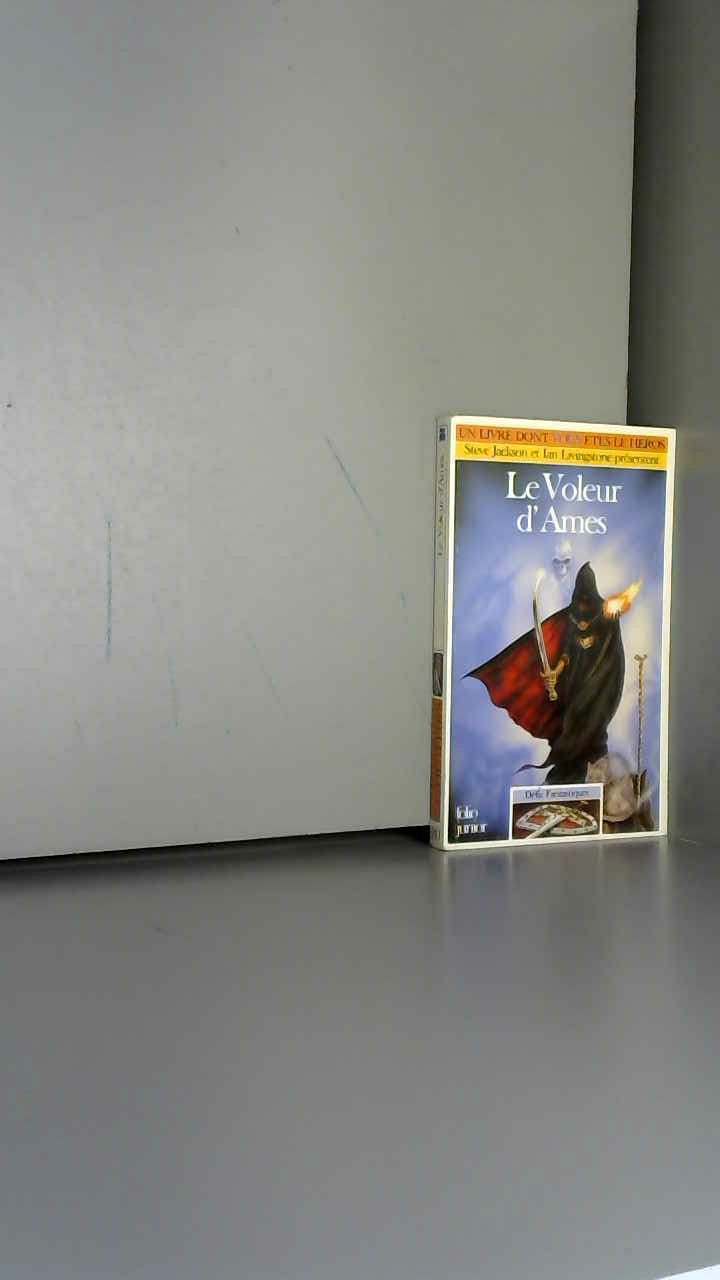book: (400, 380, 719, 868)
